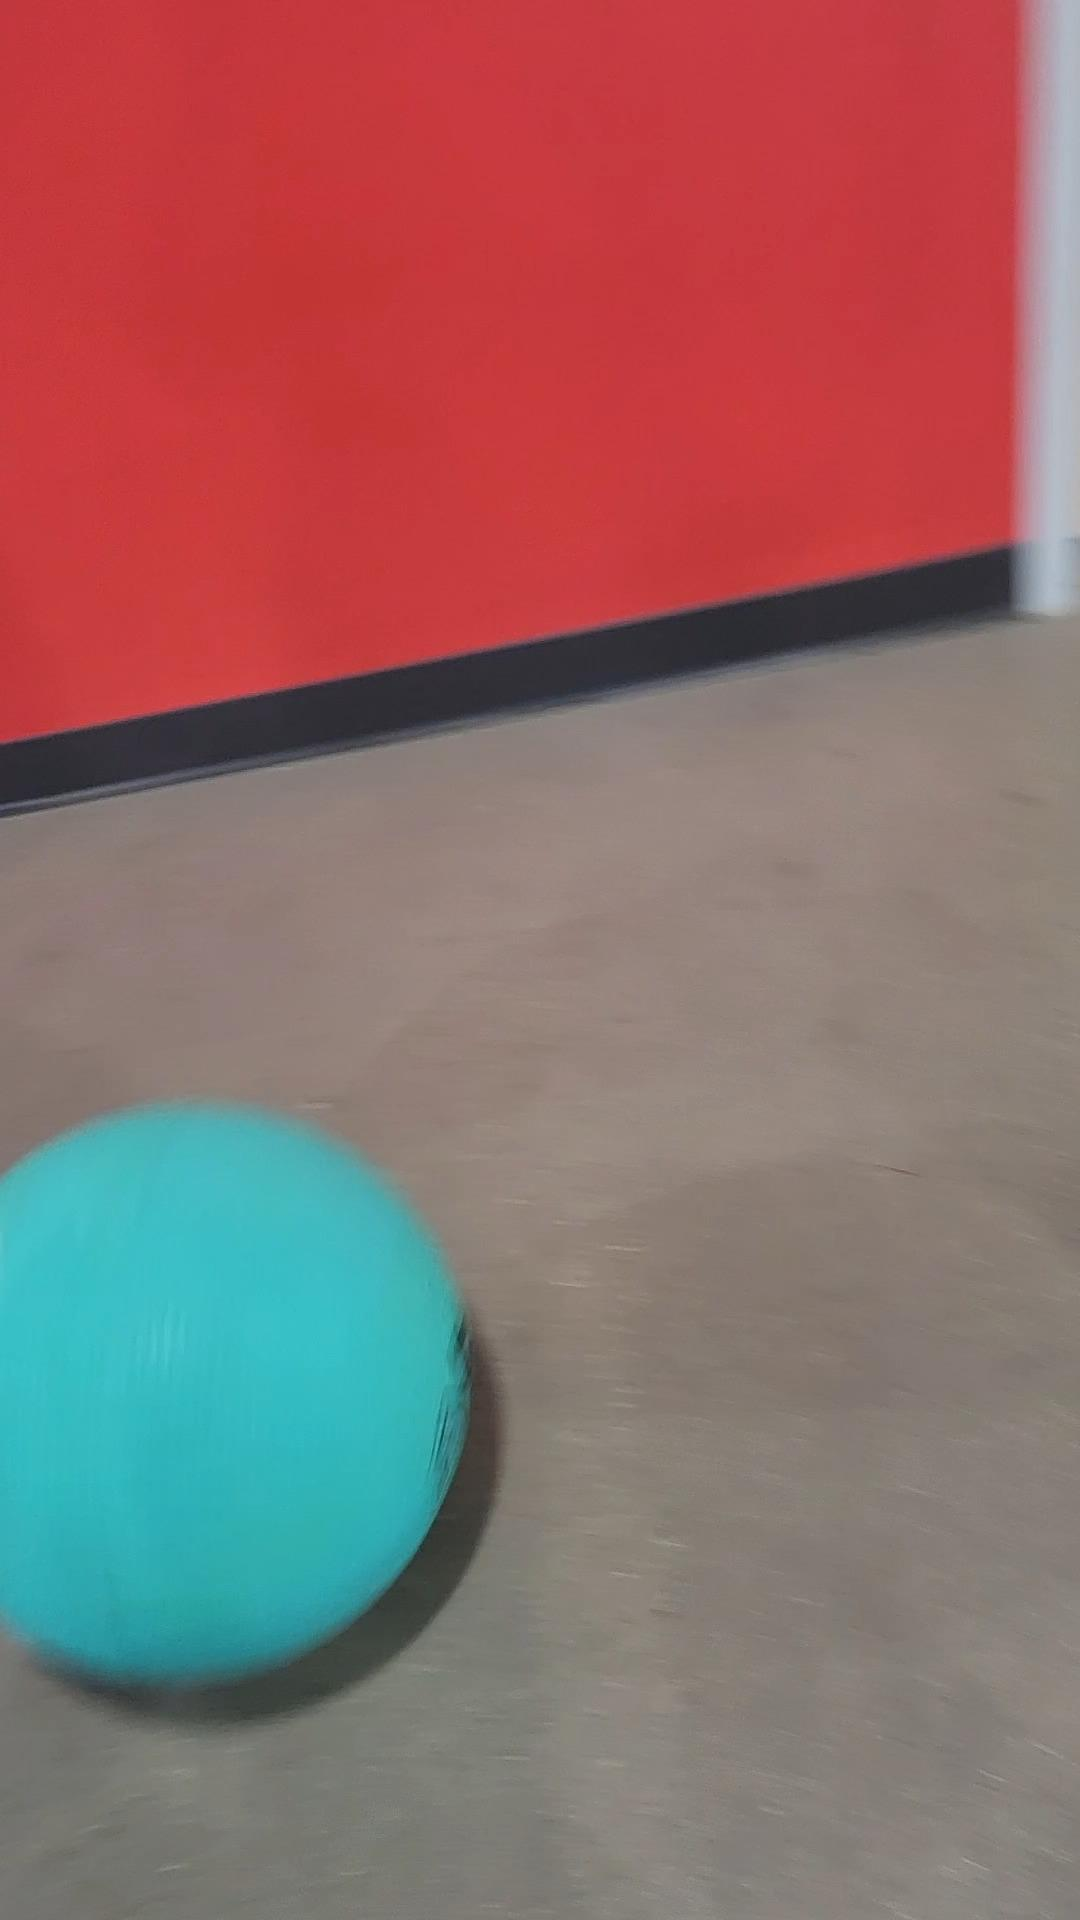algae: (7, 1116, 471, 1689)
